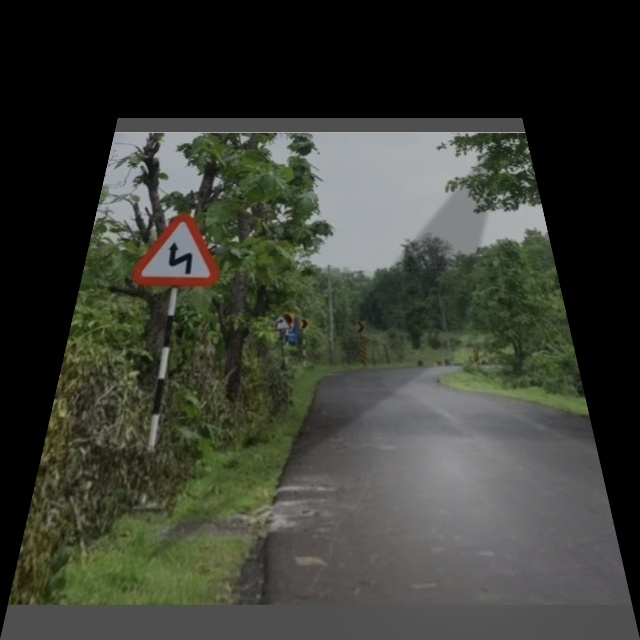Left_Reverse_Bend: (133, 214, 223, 287)
